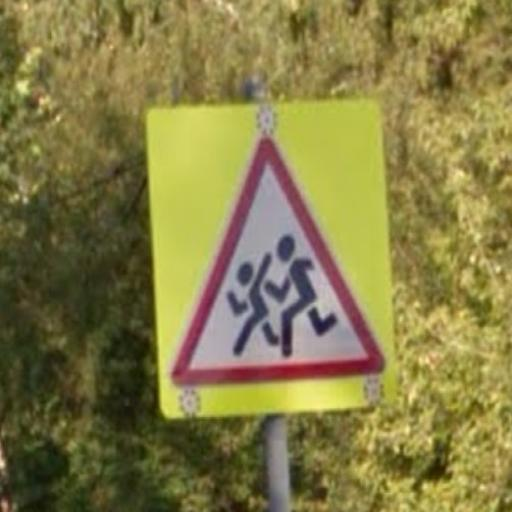traffic_sign: (168, 129, 390, 394)
